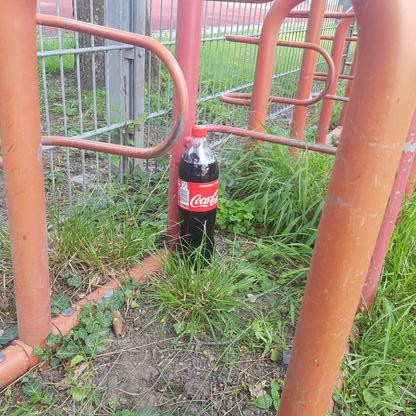coca-cola: (177, 124, 220, 266)
